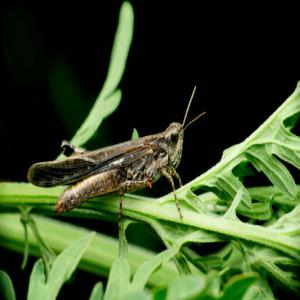locust: (23, 67, 215, 236)
